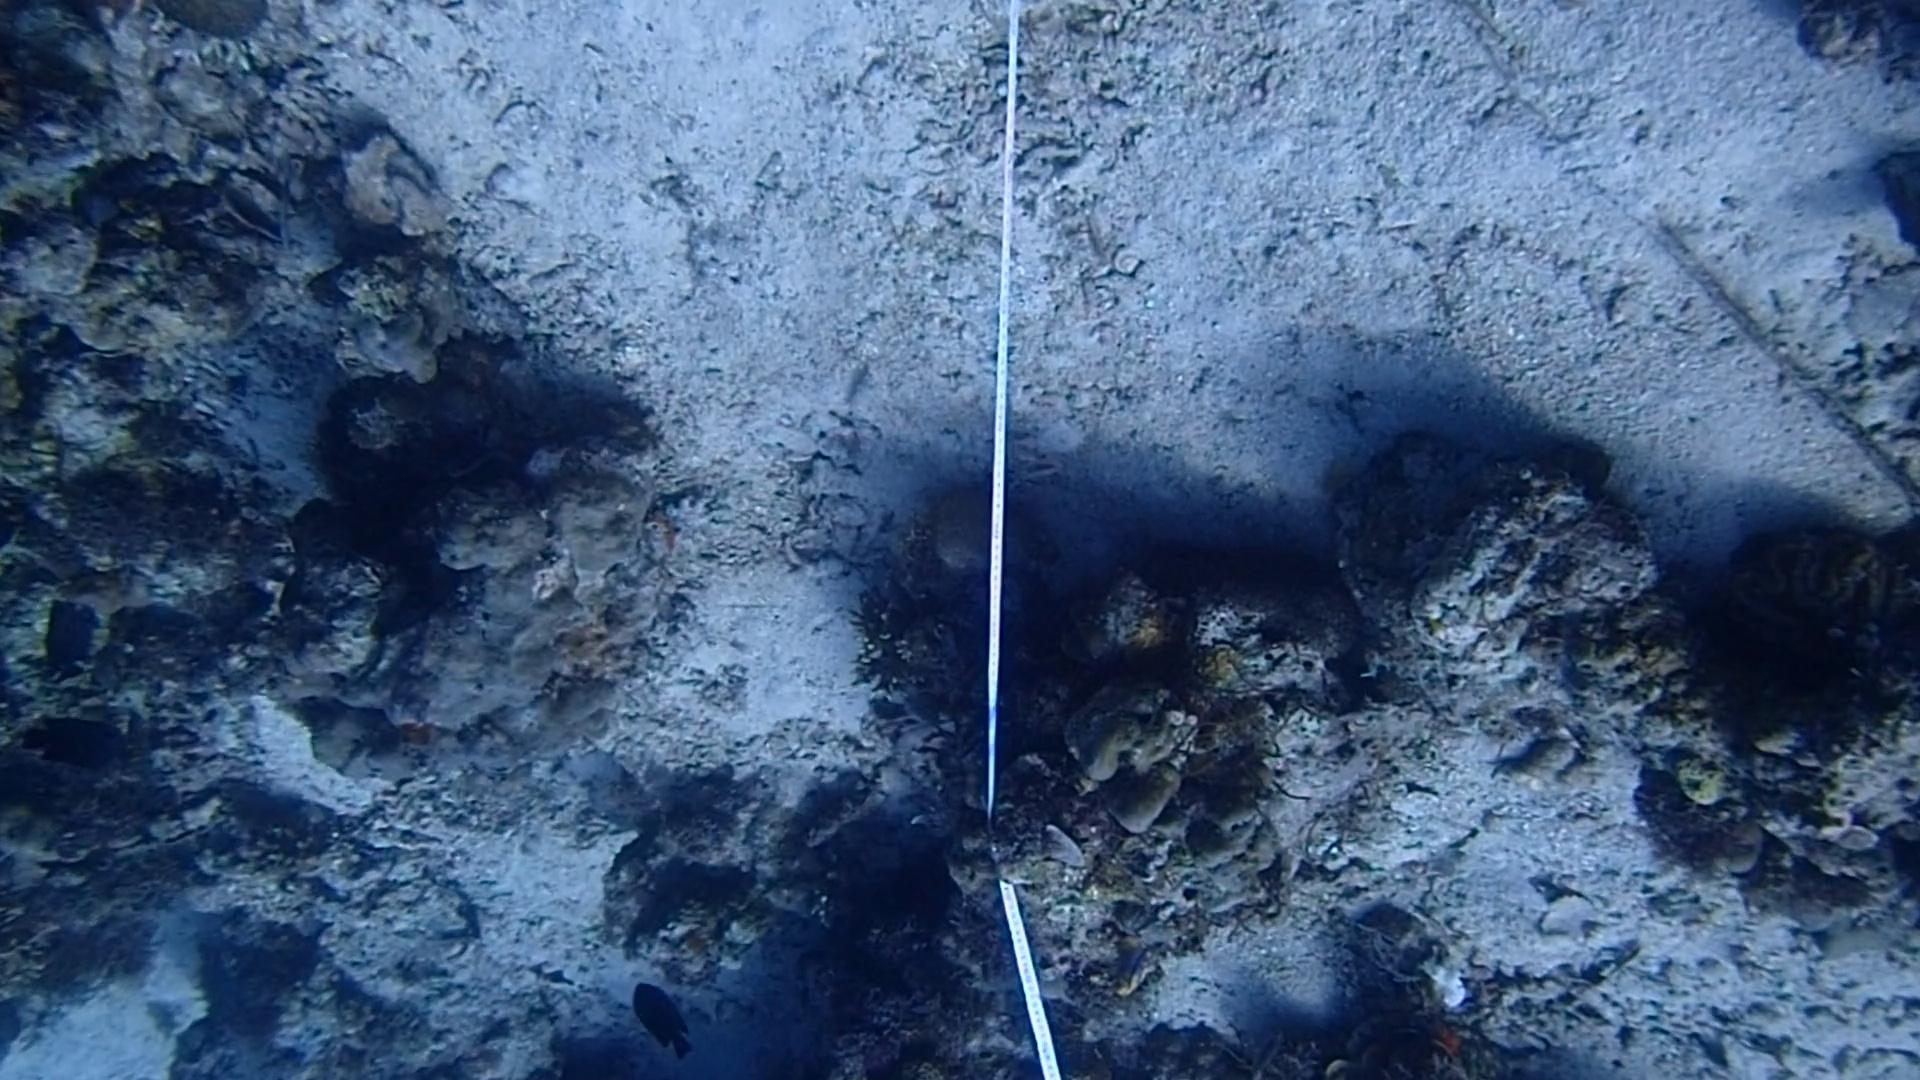Dark Fish: (17, 708, 136, 781), (628, 972, 698, 1062), (38, 596, 99, 695)
